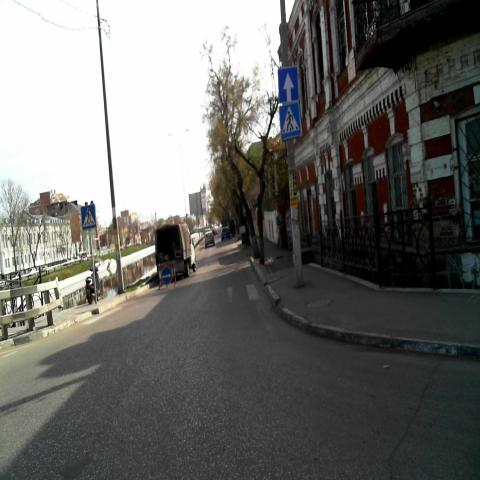4_1_2_1: (161, 264, 173, 286)
